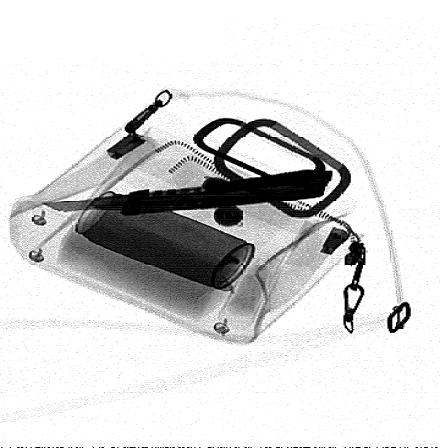Knife: (41, 169, 334, 217)
